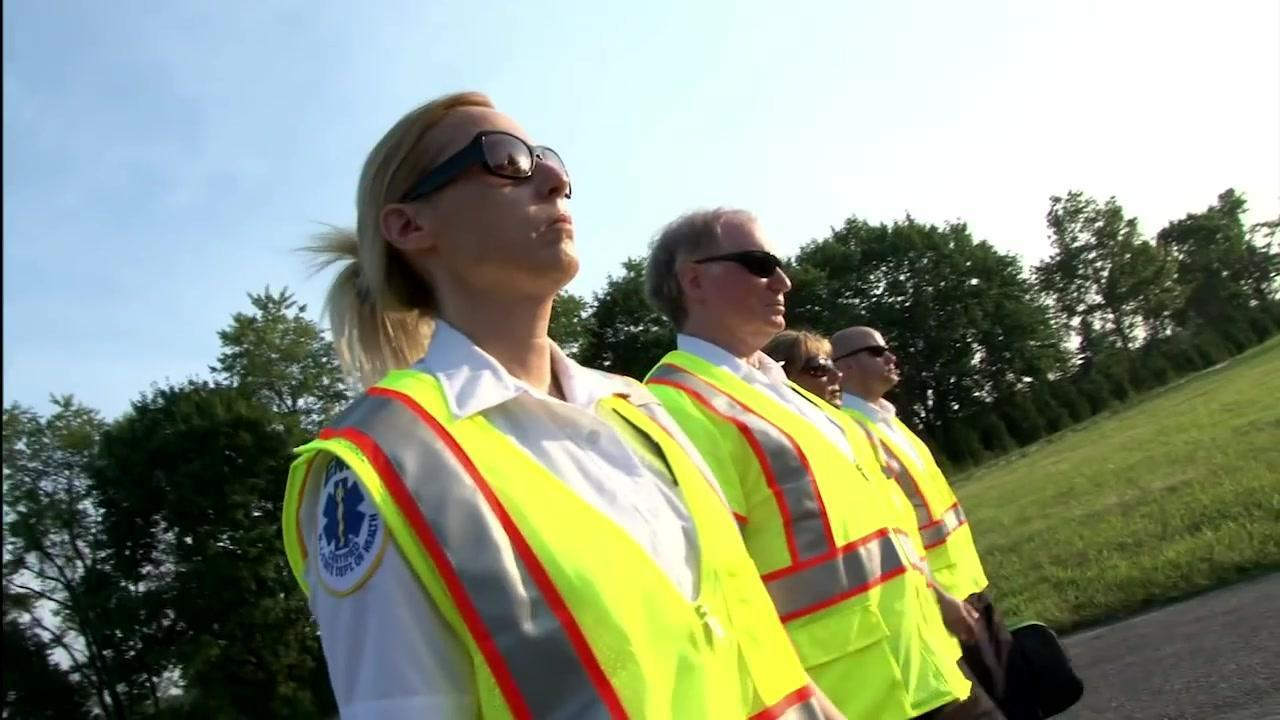vest: (284, 369, 849, 718), (629, 344, 973, 717), (841, 403, 991, 604)
